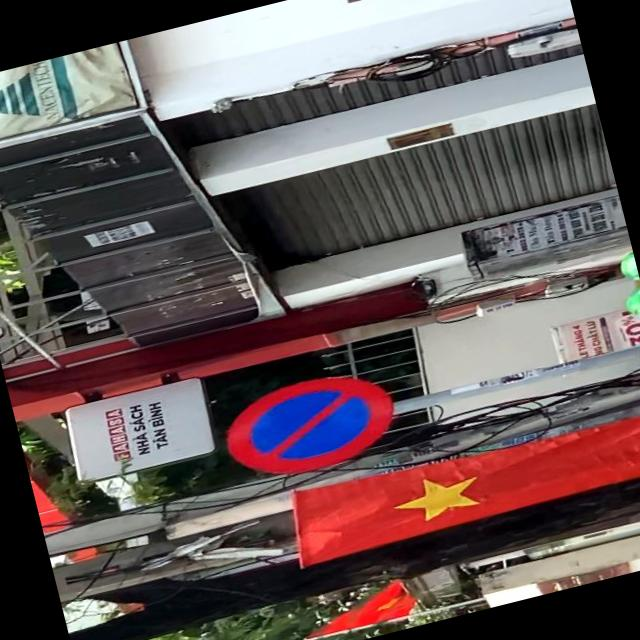P-131a: (212, 359, 403, 488)
